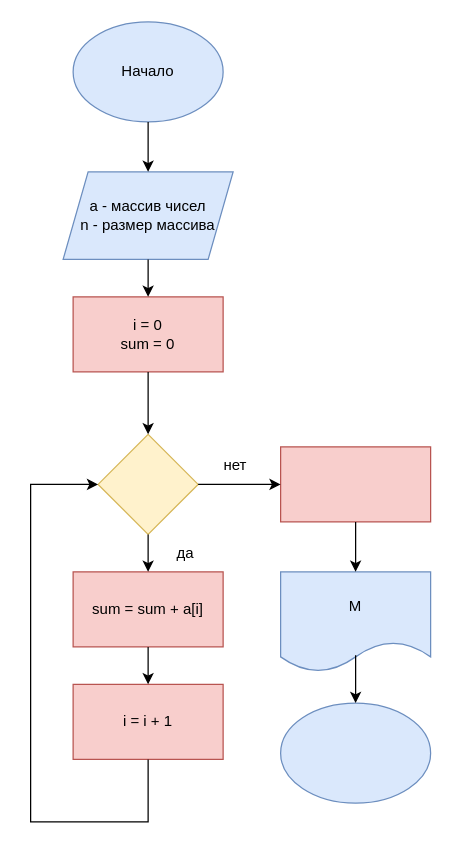
This 453x854 diagram has some shape labels left out. Here are the shapes that lost their labels. From the top down, the centre of each, then its label:
At point 147,483: "i < n".
At point 355,484: "M = sum / n".
At point 355,752: "Конец".
